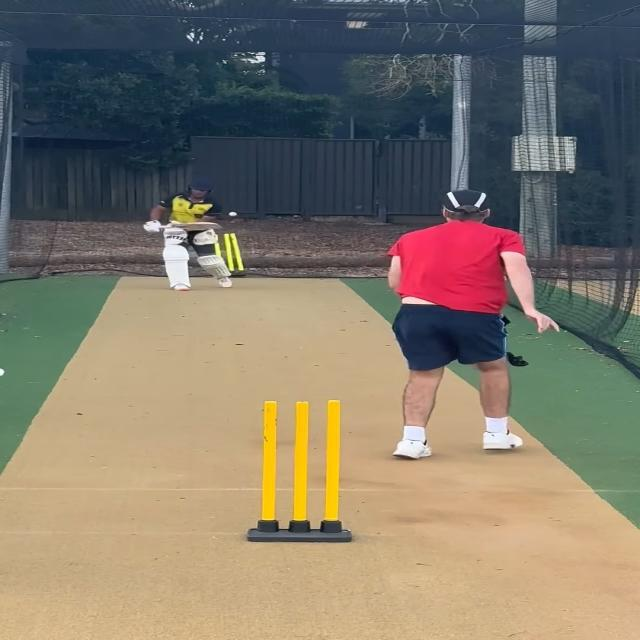stump: (244, 397, 354, 545), (214, 234, 249, 278)
